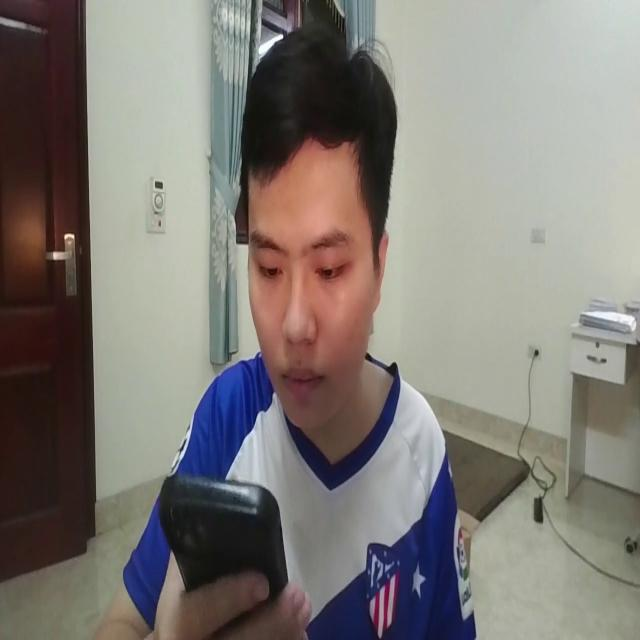phone: (139, 449, 312, 630)
student: (89, 28, 483, 640)
